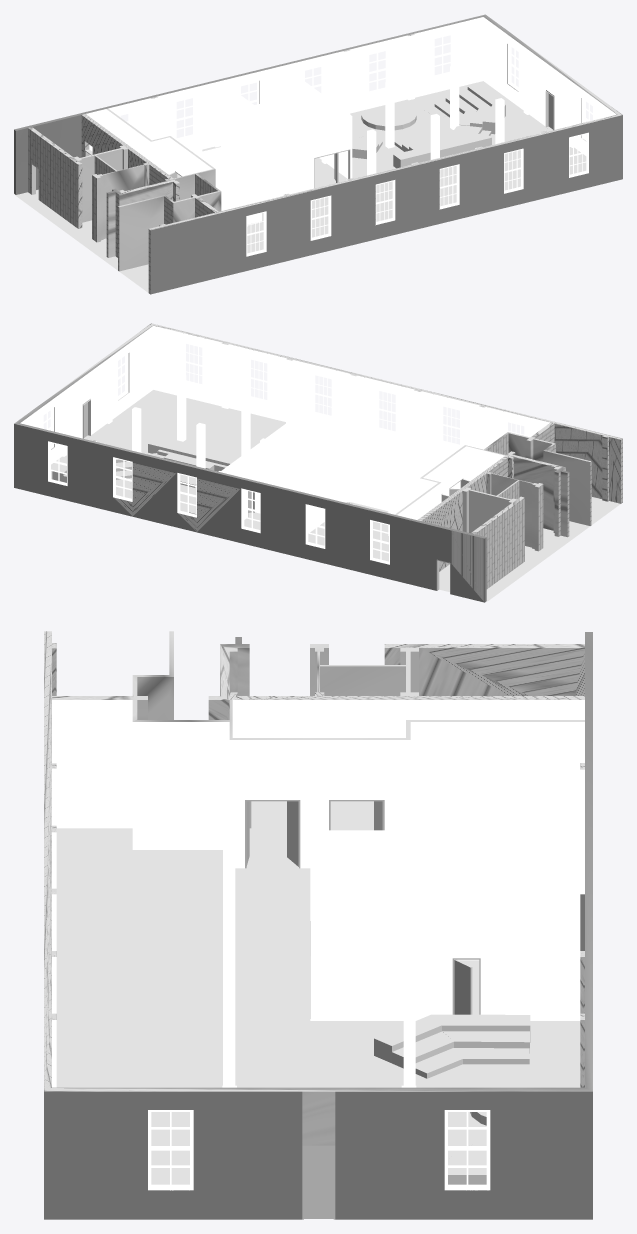
The model's file is bldspace2-transformed.glb.
The picture shows the model from 3 angles, top to bottom: view 1: azimuth 30°, elevation 25°; view 2: azimuth 150°, elevation 25°; view 3: azimuth 270°, elevation 25°; orthographic projection. The views are drawn at different scales.
Visible parts, largest first — view 1: Mesh.032; view 2: Mesh.032; view 3: Mesh.032.
Part boxes in pixels (left/top/right/bottom): Mesh.032: left=14, top=14, right=622, bottom=294; Mesh.032: left=14, top=323, right=622, bottom=602; Mesh.032: left=44, top=631, right=592, bottom=1219.
Bounding box in the file's own units: 38.37 × 5.26 × 19.33.
Materials: 3 (1 with a texture image).
